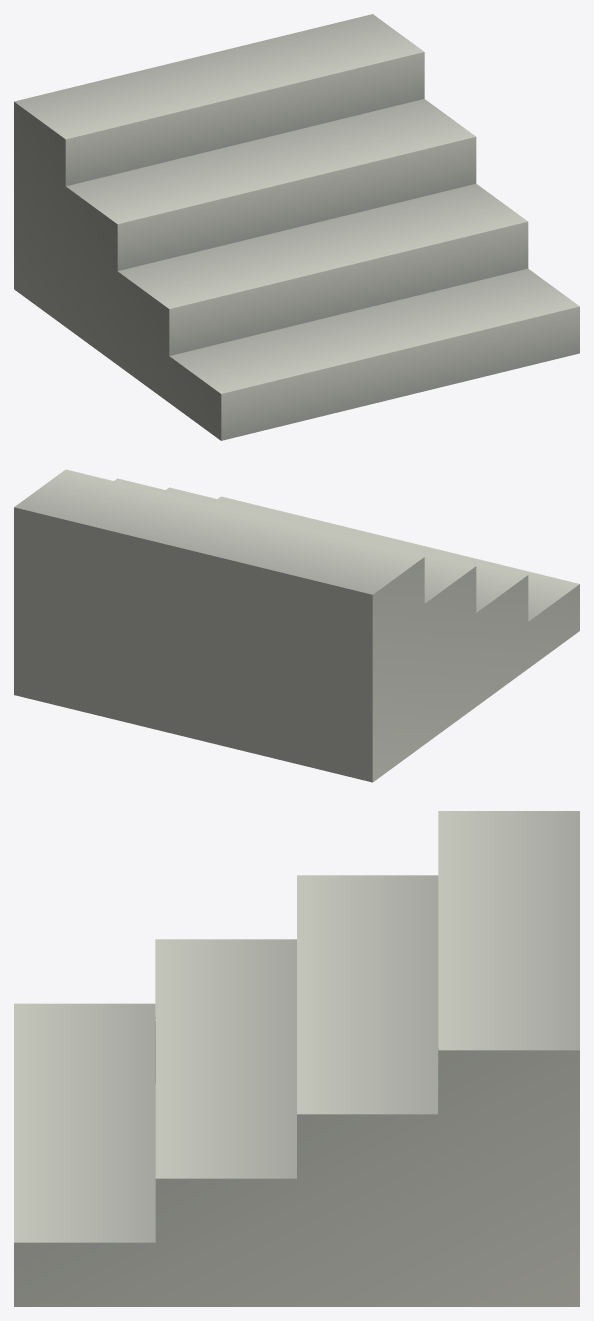
File: Stairs_Concrete_Wide_01.fbx
3 renders of one model, top to bottom at view 1: azimuth 30°, elevation 25°; view 2: azimuth 150°, elevation 25°; view 3: azimuth 270°, elevation 25°, orthographic. The views are drawn at different scales.
Visible parts, largest first — view 1: Stairs_Concrete_Wide_01; view 2: Stairs_Concrete_Wide_01; view 3: Stairs_Concrete_Wide_01.
Boxes of the visible parts, x1,y1,x2,y2 form: Stairs_Concrete_Wide_01: [14, 14, 579, 440]; Stairs_Concrete_Wide_01: [14, 469, 579, 782]; Stairs_Concrete_Wide_01: [14, 811, 579, 1306].
Size of the model in its own units: 400 by 200 by 400.
